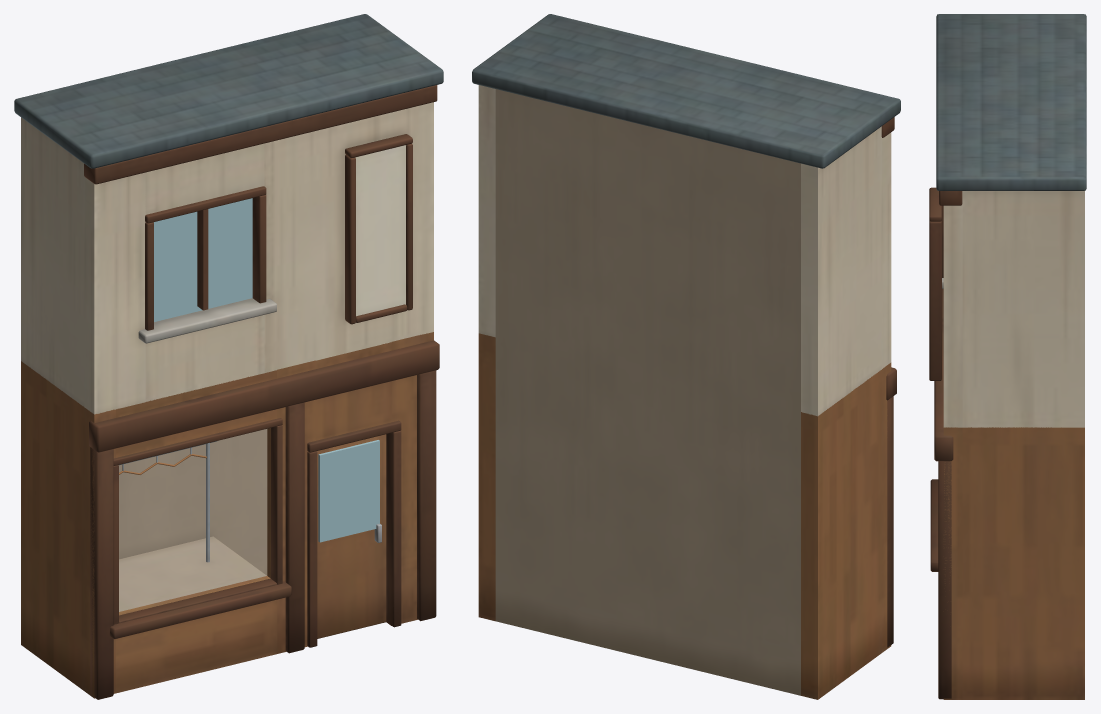
The model's file is filler_tailor.glb.
3 renders of one model, left to right at view 1: azimuth 30°, elevation 25°; view 2: azimuth 150°, elevation 25°; view 3: azimuth 270°, elevation 25°, orthographic. The views are drawn at different scales.
Parts seen in each view (by area): view 1: filler_tailor; view 2: filler_tailor; view 3: filler_tailor.
Part boxes in pixels (x1=…): filler_tailor: x1=14, y1=14, x2=443, y2=699; filler_tailor: x1=472, y1=14, x2=900, y2=699; filler_tailor: x1=929, y1=14, x2=1086, y2=699.
Bounding box in the file's own units: 4.16 × 6.16 × 1.68.
Materials: 9 (8 with a texture image).
